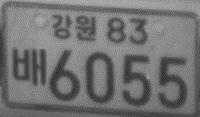0: (83, 51, 115, 103)
3: (129, 17, 148, 46)
5: (157, 55, 188, 108), (121, 53, 151, 106)
6: (48, 48, 81, 101)
8: (106, 16, 126, 43)
강원_H: (52, 13, 96, 41)
배: (11, 46, 47, 87)
